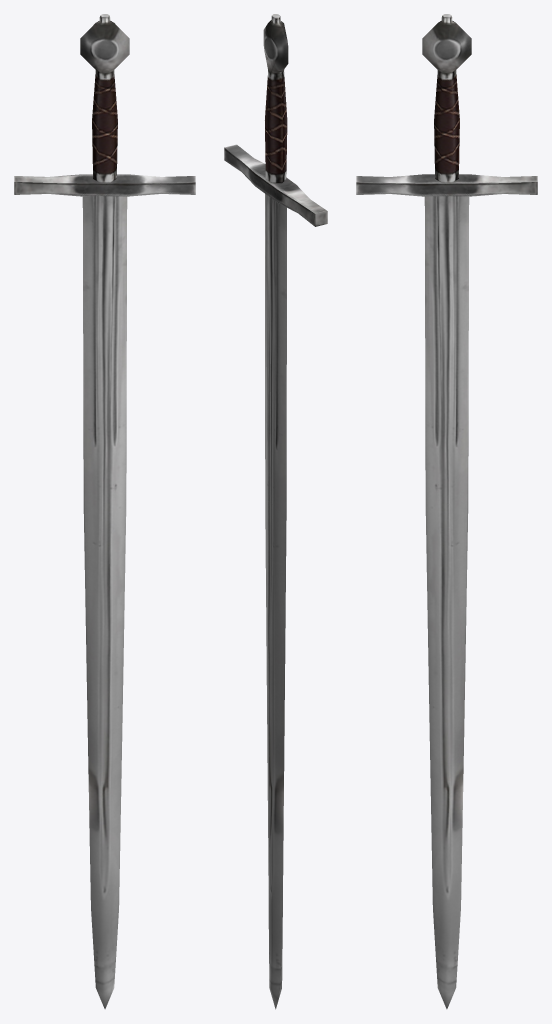
File: Sword.fbx
3 renders of one model, left to right at view 1: azimuth 90°, elevation 25°; view 2: azimuth 210°, elevation 25°; view 3: azimuth 270°, elevation 25°, orthographic.
Parts seen in each view (by area): view 1: Geo_Sword; view 2: Geo_Sword; view 3: Geo_Sword.
Boxes of the visible parts, x1,y1,x2,y2 form: Geo_Sword: [14, 14, 195, 1009]; Geo_Sword: [224, 14, 327, 1009]; Geo_Sword: [356, 14, 537, 1009].
Bounding box in the file's own units: 2 × 98.82 × 16.35.
